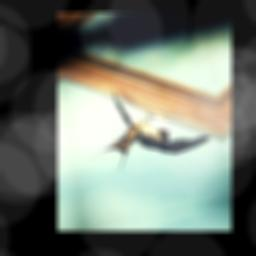Swallow: (78, 70, 214, 180)
